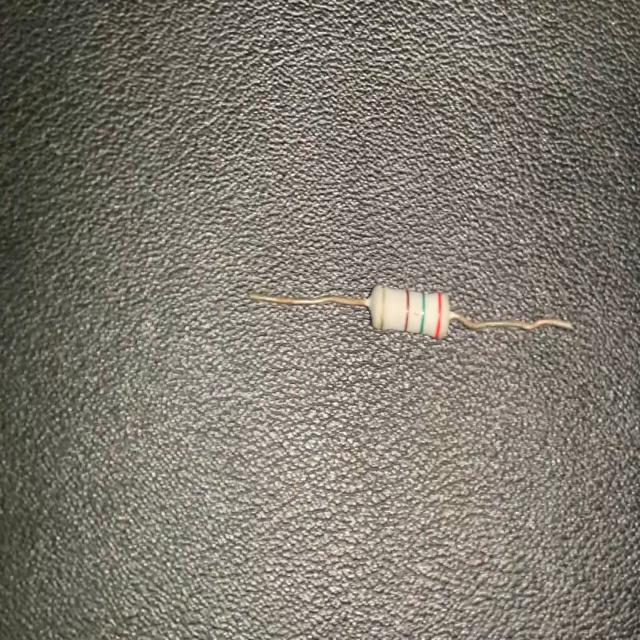resistor: (245, 273, 579, 354)
